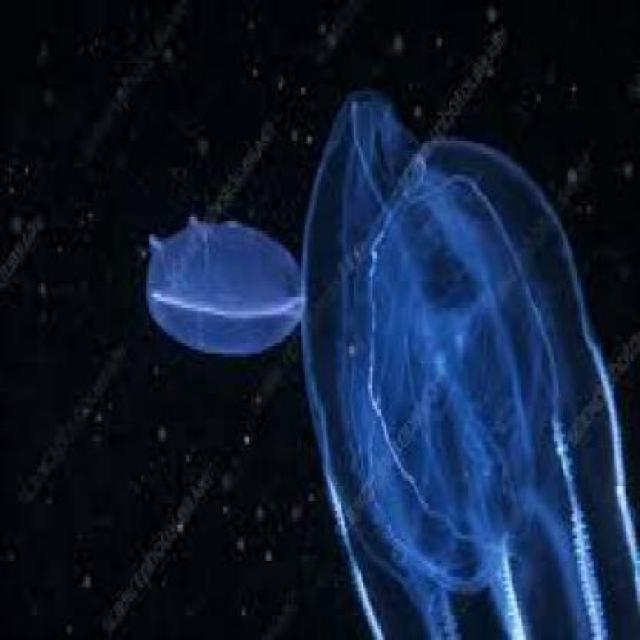Jellyfish: (140, 206, 306, 360)
